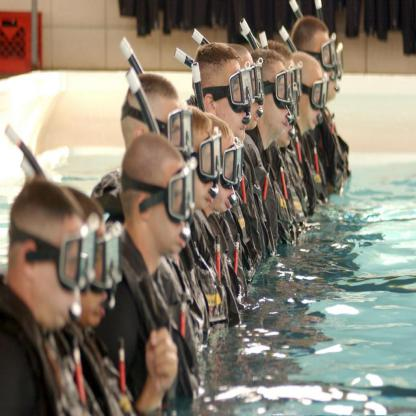face: (38, 218, 89, 332), (76, 215, 116, 325), (150, 155, 190, 254), (221, 57, 254, 138), (192, 122, 223, 204), (266, 57, 296, 136), (311, 27, 343, 97), (299, 60, 329, 134), (221, 143, 244, 205)
